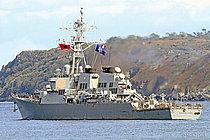MIL_Ship: (10, 16, 203, 121)
